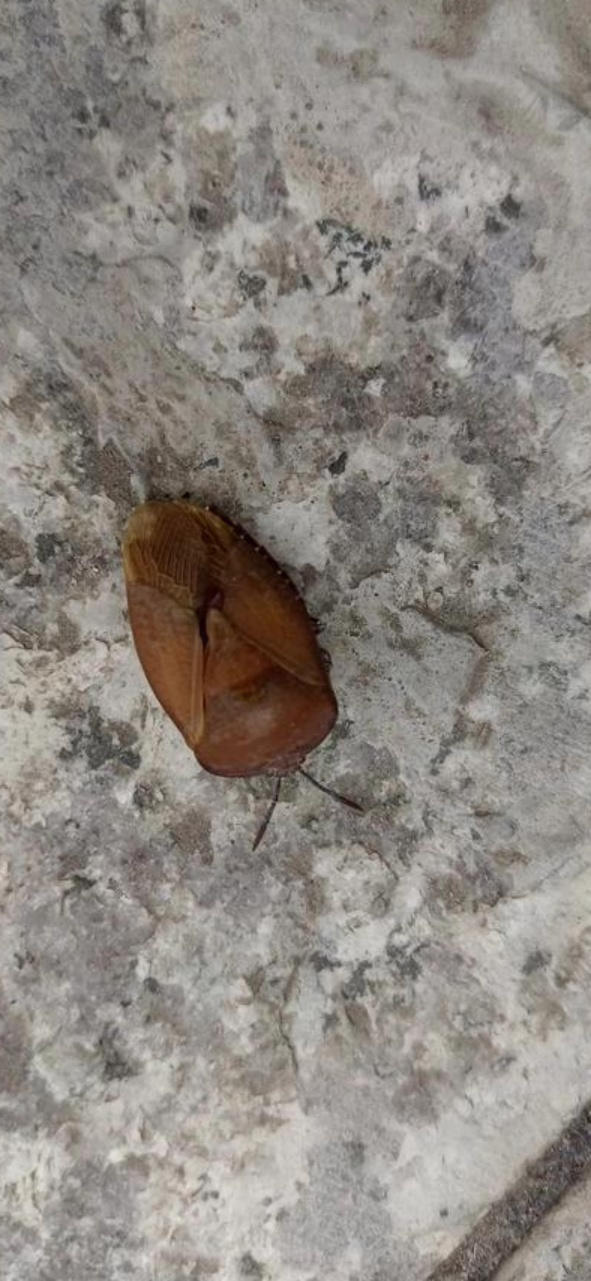Stink_Bug: (118, 489, 318, 800)
